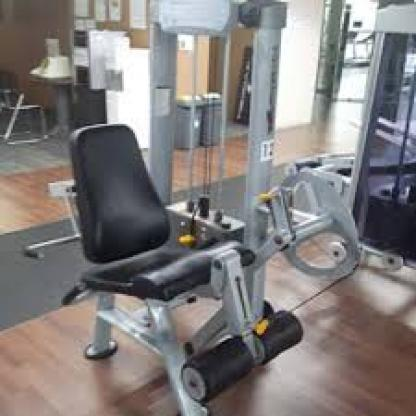leg extension: (19, 0, 372, 416)
